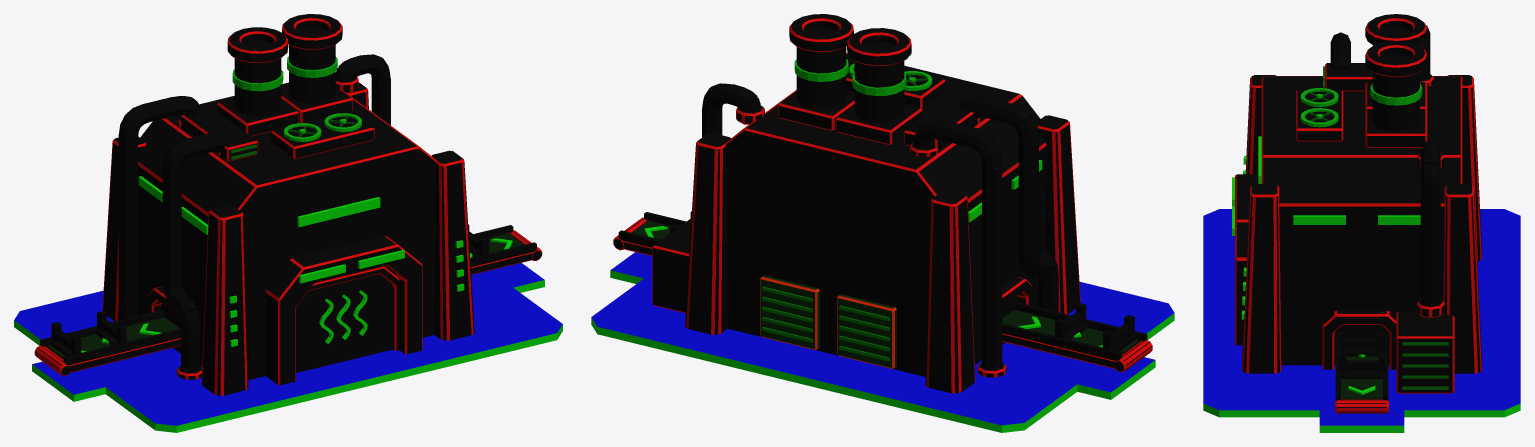
The model's file is SM_Holo_Smelter_T2.fbx.
3 views of the same model, side by side, from view 1: azimuth 30°, elevation 25°; view 2: azimuth 150°, elevation 25°; view 3: azimuth 270°, elevation 25° (orthographic). The views are drawn at different scales.
Visible parts, largest first — view 1: SM_Holo_Smelter_T2; view 2: SM_Holo_Smelter_T2; view 3: SM_Holo_Smelter_T2.
Boxes of the visible parts, x1,y1,x2,y2 form: SM_Holo_Smelter_T2: [14, 14, 562, 432]; SM_Holo_Smelter_T2: [591, 14, 1174, 432]; SM_Holo_Smelter_T2: [1203, 14, 1520, 432].
Bounding box in the file's own units: 21.32 × 11.88 × 12.
